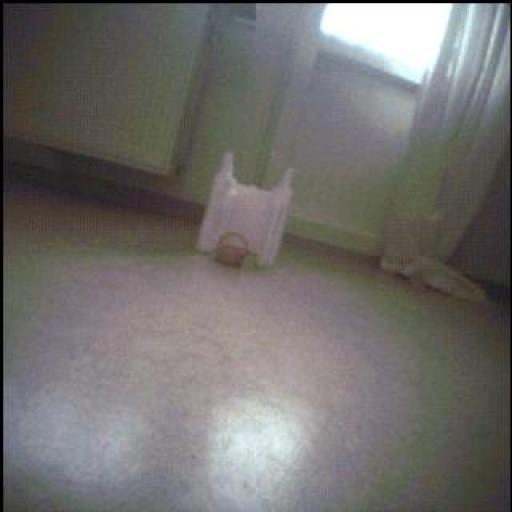Basket: (217, 233, 251, 268)
